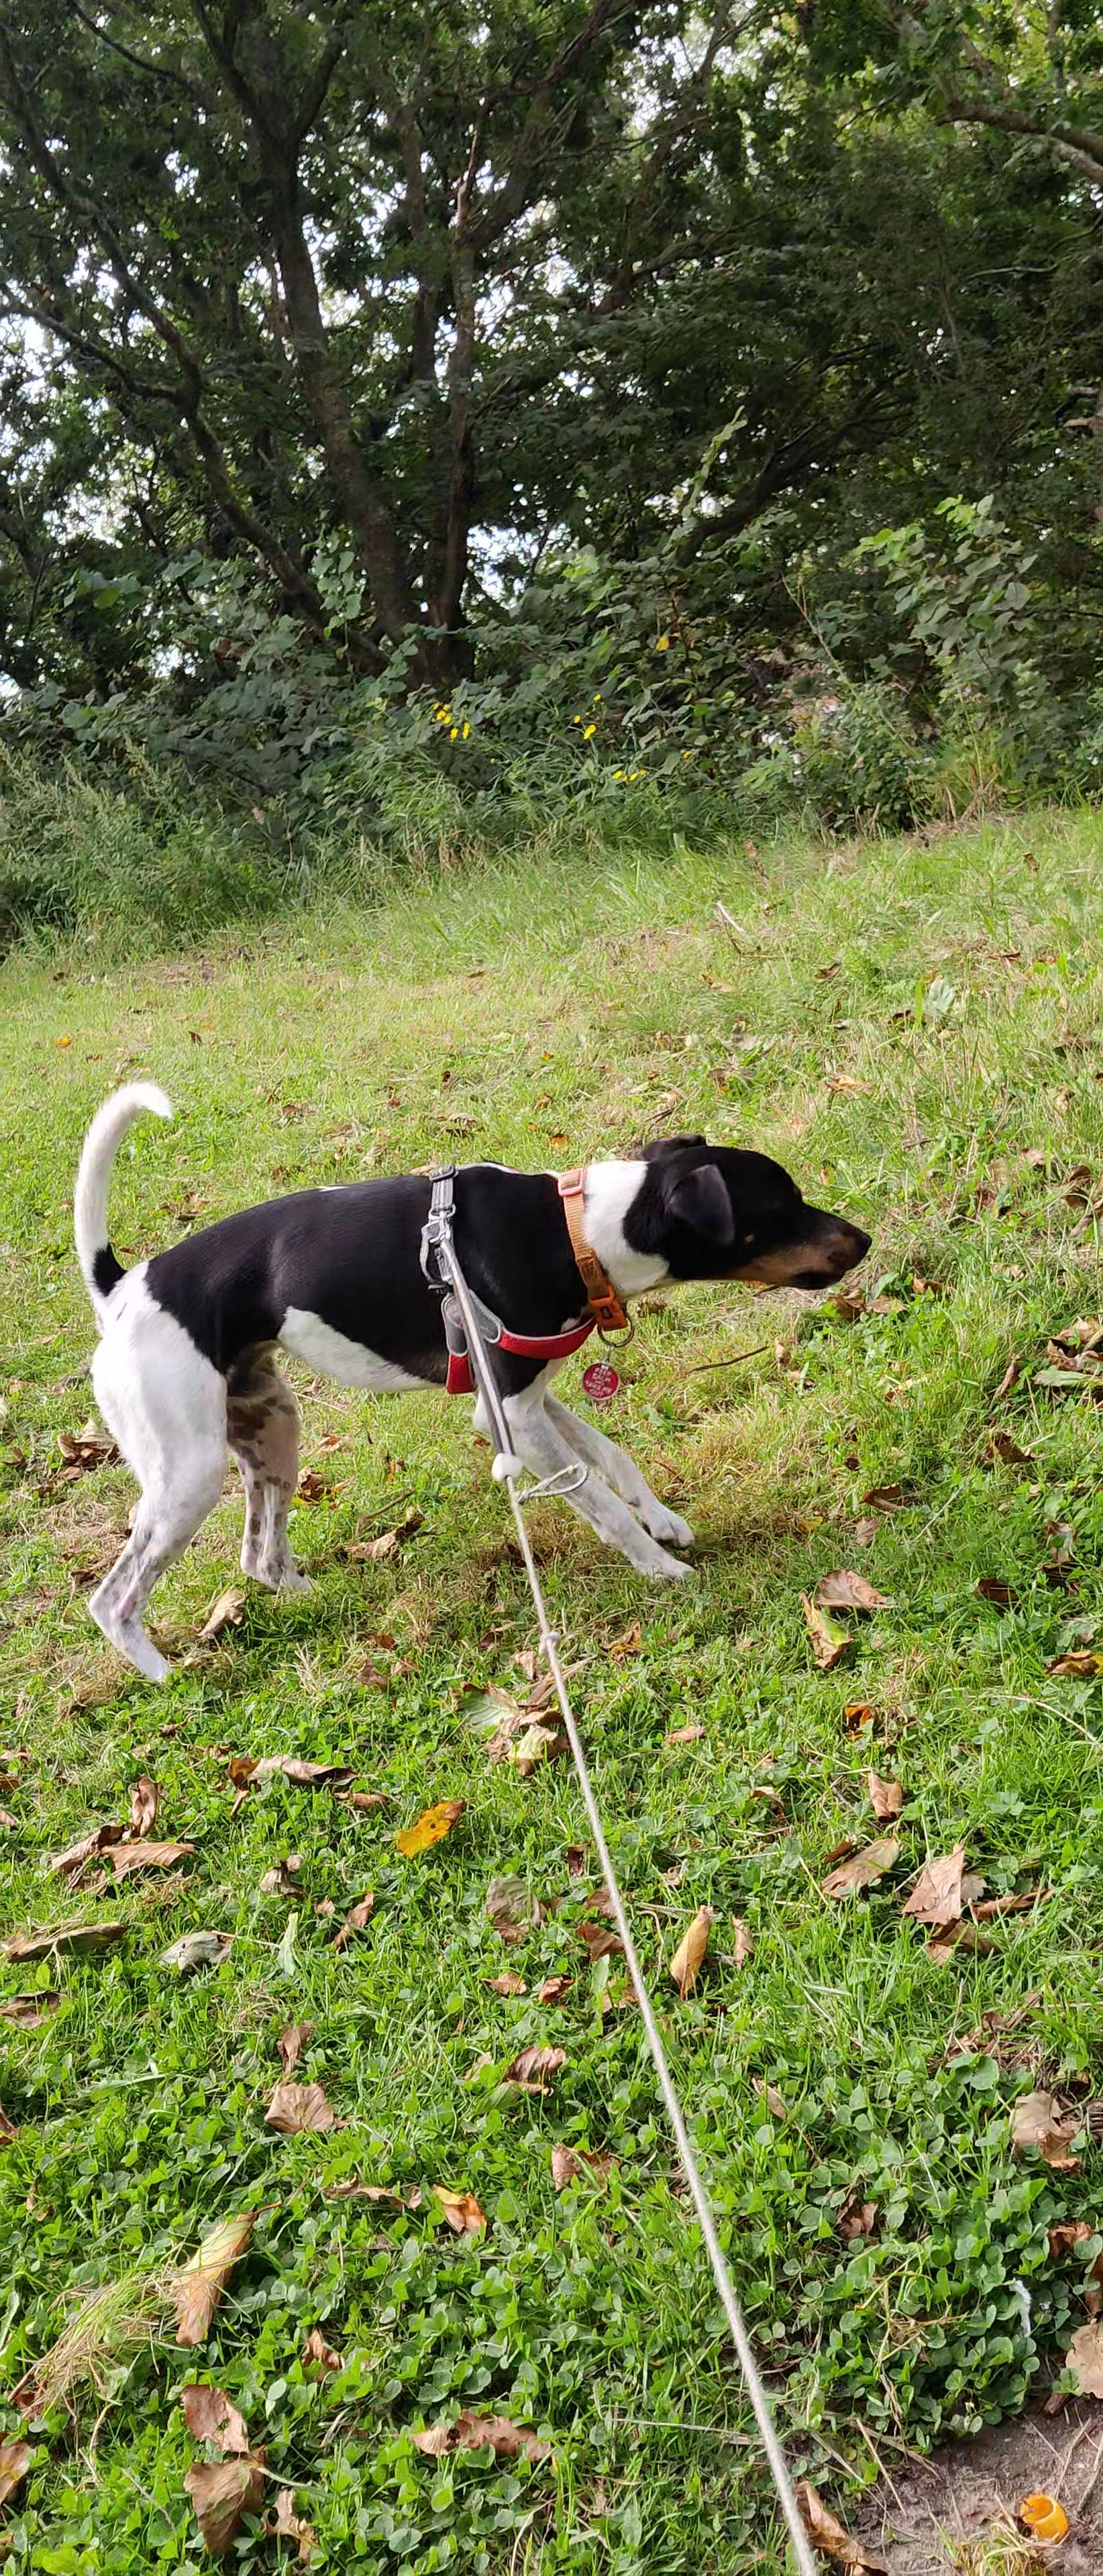Dog: (67, 1076, 876, 1694)
